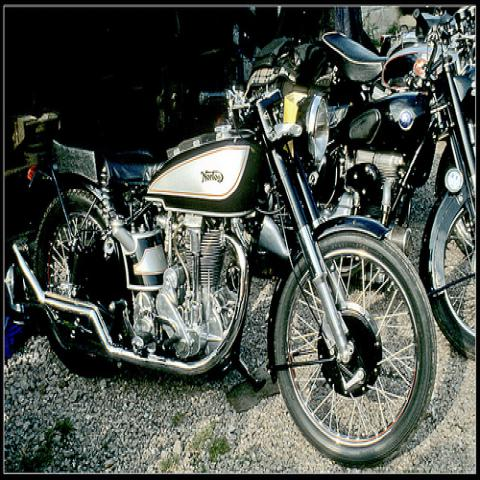motorcycle: (6, 61, 438, 463), (302, 29, 479, 353)
